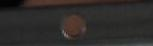holes: (57, 9, 92, 43), (0, 0, 29, 10)
